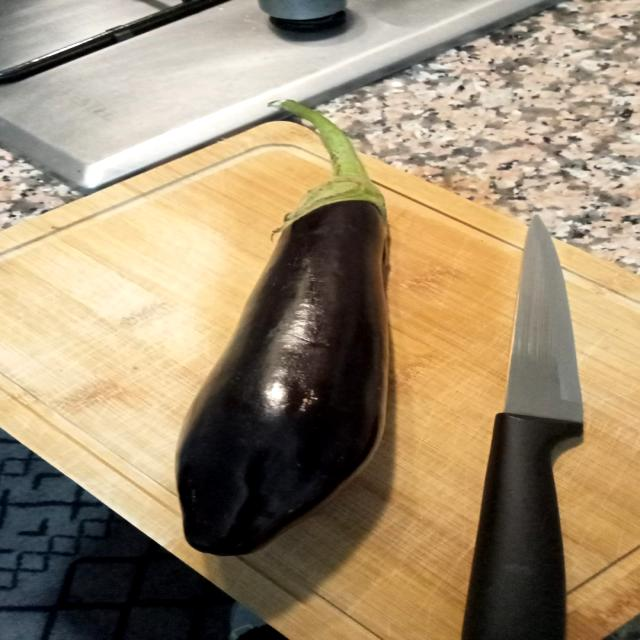eggplant: (152, 99, 409, 555)
